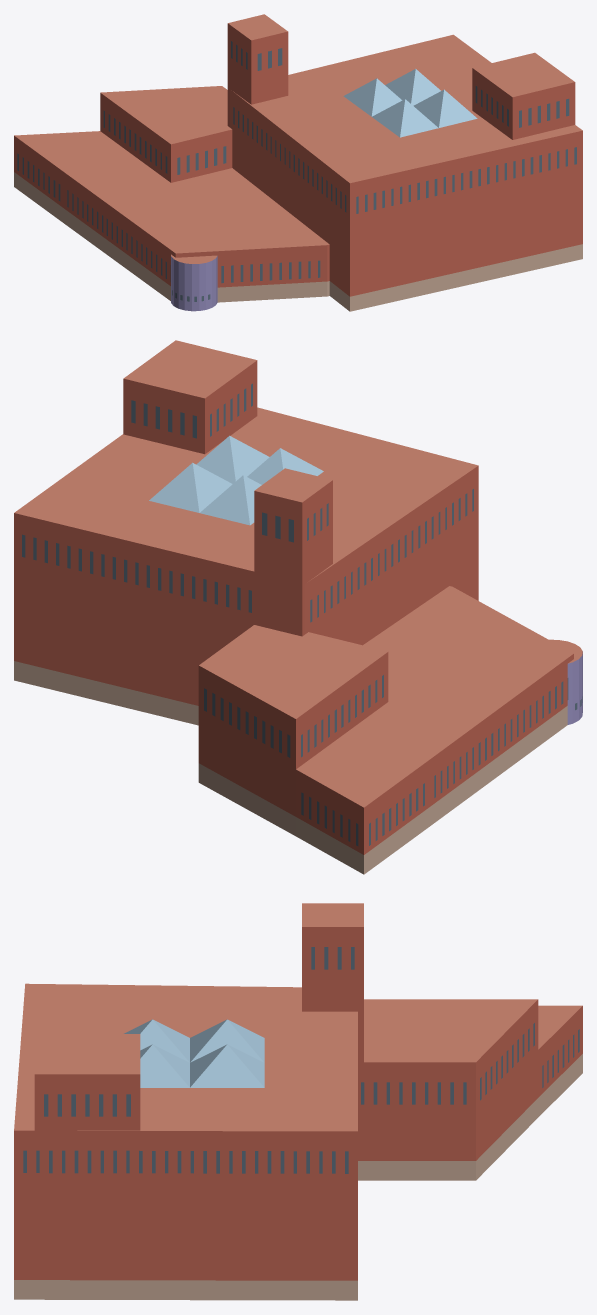
File: sat-central-library.glb
The picture shows the model from 3 angles, top to bottom: view 1: azimuth 30°, elevation 25°; view 2: azimuth 150°, elevation 25°; view 3: azimuth 270°, elevation 25°; orthographic projection. The views are drawn at different scales.
Visible parts, largest first — view 1: San Antonio Central Library; view 2: San Antonio Central Library; view 3: San Antonio Central Library.
Boxes of the visible parts, x1,y1,x2,y2 form: San Antonio Central Library: (14,14,582,311); San Antonio Central Library: (14,340,582,874); San Antonio Central Library: (14,903,582,1300).
Bounding box in the file's own units: 87.14 × 45 × 91.5.
